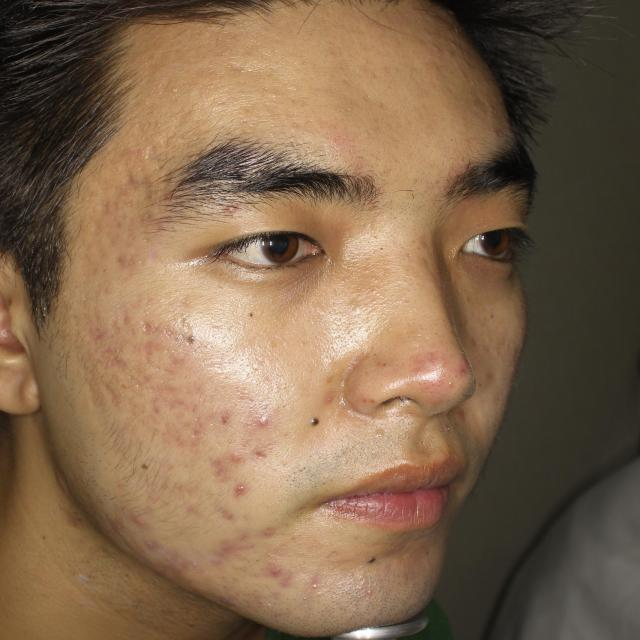Acne: (208, 526, 318, 590), (117, 518, 206, 574), (81, 307, 131, 386), (208, 446, 264, 510), (148, 312, 204, 352), (420, 351, 470, 393), (146, 367, 187, 412), (187, 412, 234, 446), (123, 448, 154, 478), (484, 355, 508, 393), (470, 86, 500, 116), (242, 411, 270, 442), (222, 199, 253, 226), (121, 166, 148, 195), (418, 235, 436, 268), (117, 254, 136, 284)
